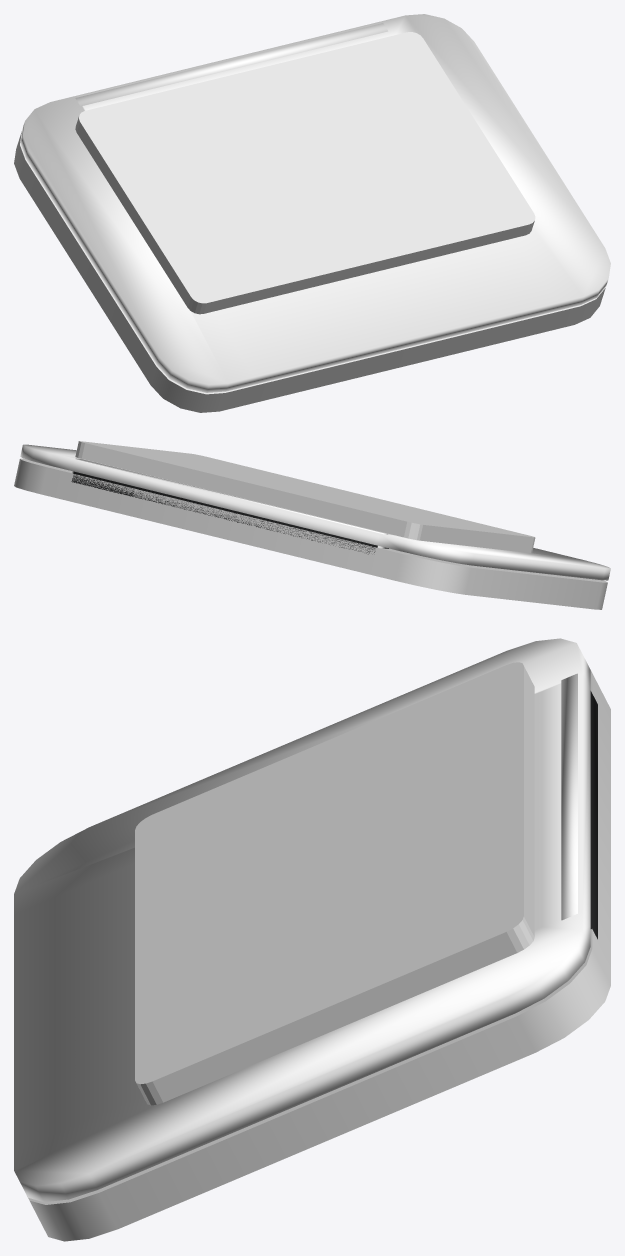
Rendered from laptop_ani.gltf.
3 views of the same model, one above another, from view 1: azimuth 30°, elevation 25°; view 2: azimuth 150°, elevation 25°; view 3: azimuth 270°, elevation 25° (orthographic). The views are drawn at different scales.
Visible parts, largest first — view 1: Plane, Cube.002, Cube, Cube.003; view 2: Cube, Plane, Cube.002, Cube.003; view 3: Plane, Cube.002, Cube, Cube.003.
Part boxes in pixels (x1,y1,x2,y2): Plane: (75, 32, 535, 314); Cube.002: (20, 14, 610, 392); Cube: (14, 130, 605, 412); Cube.003: (75, 23, 387, 106); Cube: (14, 458, 607, 609); Plane: (75, 441, 535, 553); Cube.002: (20, 444, 610, 580); Cube.003: (72, 458, 387, 548); Plane: (135, 662, 534, 1105); Cube.002: (14, 638, 597, 1202); Cube: (27, 670, 610, 1241); Cube.003: (561, 673, 577, 920).
Size of the model in its own units: 5.24 by 2.09 by 3.81.
Materials: 4 (1 with a texture image).
